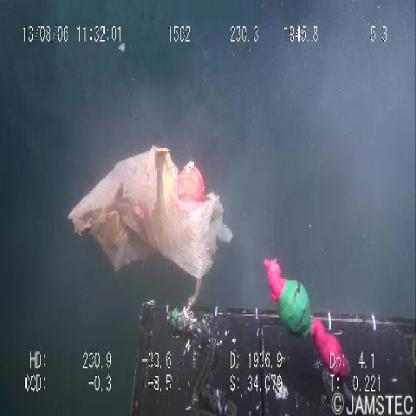Rov: (126, 258, 416, 414)
Rác: (58, 131, 238, 294)
